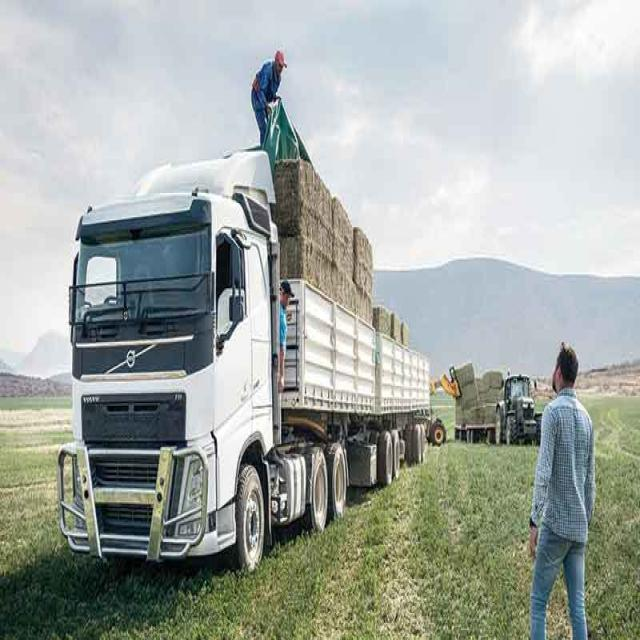Heavy Duty Truck: (58, 152, 432, 575)
Pedestrians: (527, 342, 596, 639), (250, 48, 288, 148)
